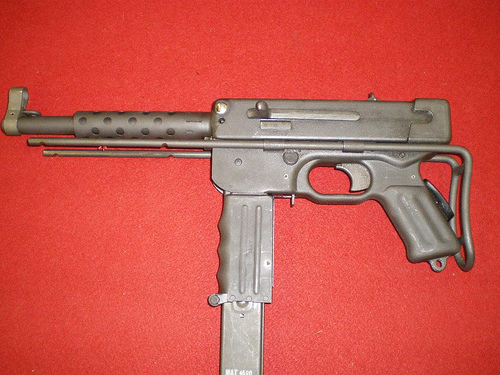rifle: (11, 67, 476, 269)
